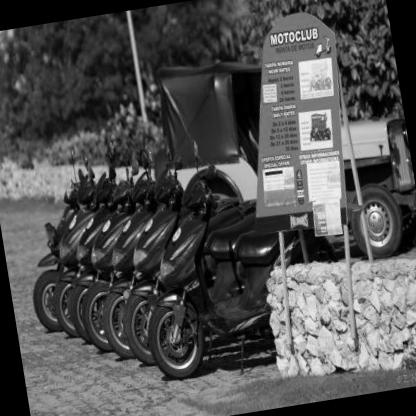moto: (143, 187, 275, 376)
truck: (143, 37, 416, 277)
